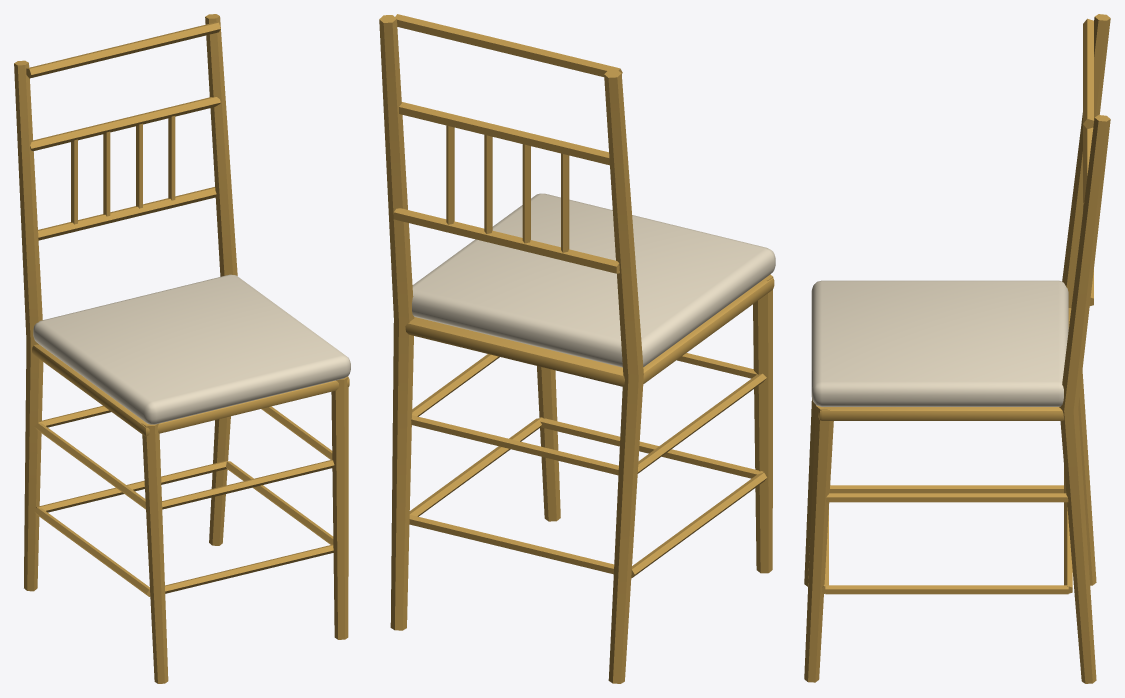
Rendered from banquet_chair.glb.
3 views of the same model, side by side, from view 1: azimuth 30°, elevation 25°; view 2: azimuth 150°, elevation 25°; view 3: azimuth 270°, elevation 25° (orthographic). The views are drawn at different scales.
Parts seen in each view (by area): view 1: banquet_chair; view 2: banquet_chair; view 3: banquet_chair.
Boxes of the visible parts, left/top/right/bottom form: banquet_chair: left=14, top=14, right=350, bottom=683; banquet_chair: left=379, top=14, right=775, bottom=683; banquet_chair: left=804, top=14, right=1110, bottom=683.
Size of the model in its own units: 0.3843 by 0.922 by 0.4529.
